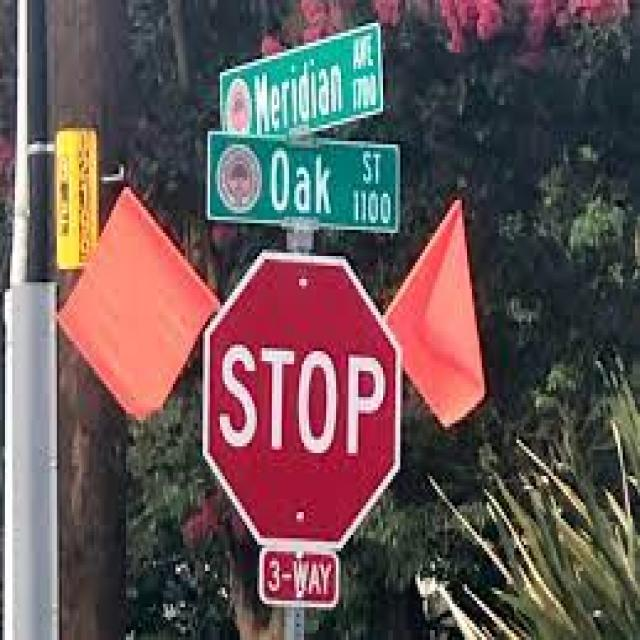stop-sign: (184, 245, 434, 498)
